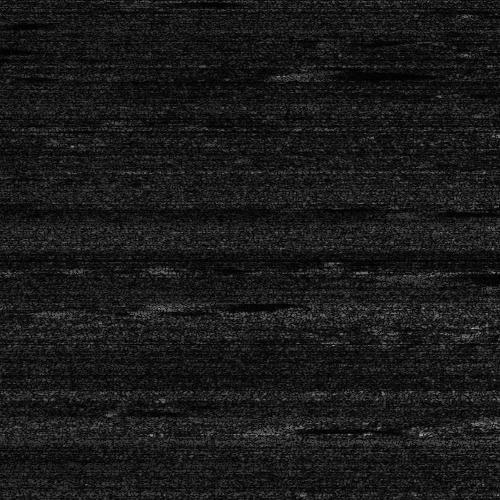object: (325, 267, 470, 280), (279, 67, 342, 80), (382, 208, 455, 217), (111, 263, 184, 270), (247, 425, 310, 432), (117, 0, 190, 4), (476, 334, 500, 345), (469, 417, 500, 422), (159, 301, 180, 304)
shadow: (311, 67, 433, 80), (398, 267, 500, 280), (278, 425, 389, 432), (419, 208, 483, 217), (148, 263, 218, 270), (154, 0, 227, 4), (169, 301, 244, 304), (0, 20, 32, 27), (0, 46, 42, 51)
